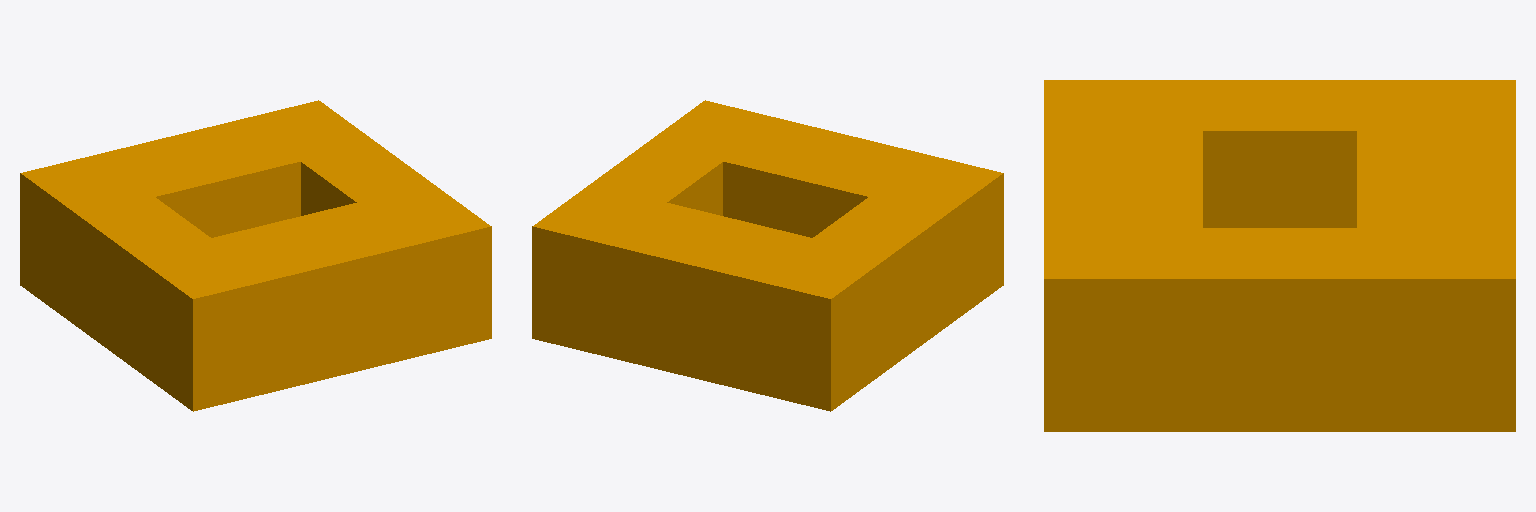
The robot description file, URDF, robot "factory_rectangular_hole_12mm":
<?xml version="1.0"?>
<robot name="factory_rectangular_hole_12mm">
    <link name="factory_rectangular_hole_12mm">
        <visual>
            <geometry>
                <mesh filename="../mesh/factory_insertion/factory_rectangular_hole_12mm_subdiv_3x.obj"/>
            </geometry>
        </visual>
        <collision>
            <geometry>
                <mesh filename="../mesh/factory_insertion/factory_rectangular_hole_12mm_subdiv_3x.obj"/>
            </geometry>
            <sdf resolution="256"/>
        </collision>
    </link>
</robot>

--- What the picture shows (computed from the rendered views, not written in the file) ---
The picture shows the robot from 3 angles, left to right: view 1: azimuth 30°, elevation 25°; view 2: azimuth 150°, elevation 25°; view 3: azimuth 270°, elevation 25°; orthographic projection.
Model factory_rectangular_hole_12mm with 1 links and 0 joints (none), rooted at factory_rectangular_hole_12mm, posed every joint at zero.
Links seen in each view (by area): view 1: factory_rectangular_hole_12mm; view 2: factory_rectangular_hole_12mm; view 3: factory_rectangular_hole_12mm.
Boxes of the visible links, x1,y1,x2,y2 form: factory_rectangular_hole_12mm: [20, 100, 491, 411]; factory_rectangular_hole_12mm: [532, 100, 1003, 411]; factory_rectangular_hole_12mm: [1044, 80, 1515, 431].
Bounding box of the posed robot: 0.025 × 0.025 × 0.009 m (x, y, z).
1 mesh visuals loaded from 1 distinct referenced files (1 OBJ).